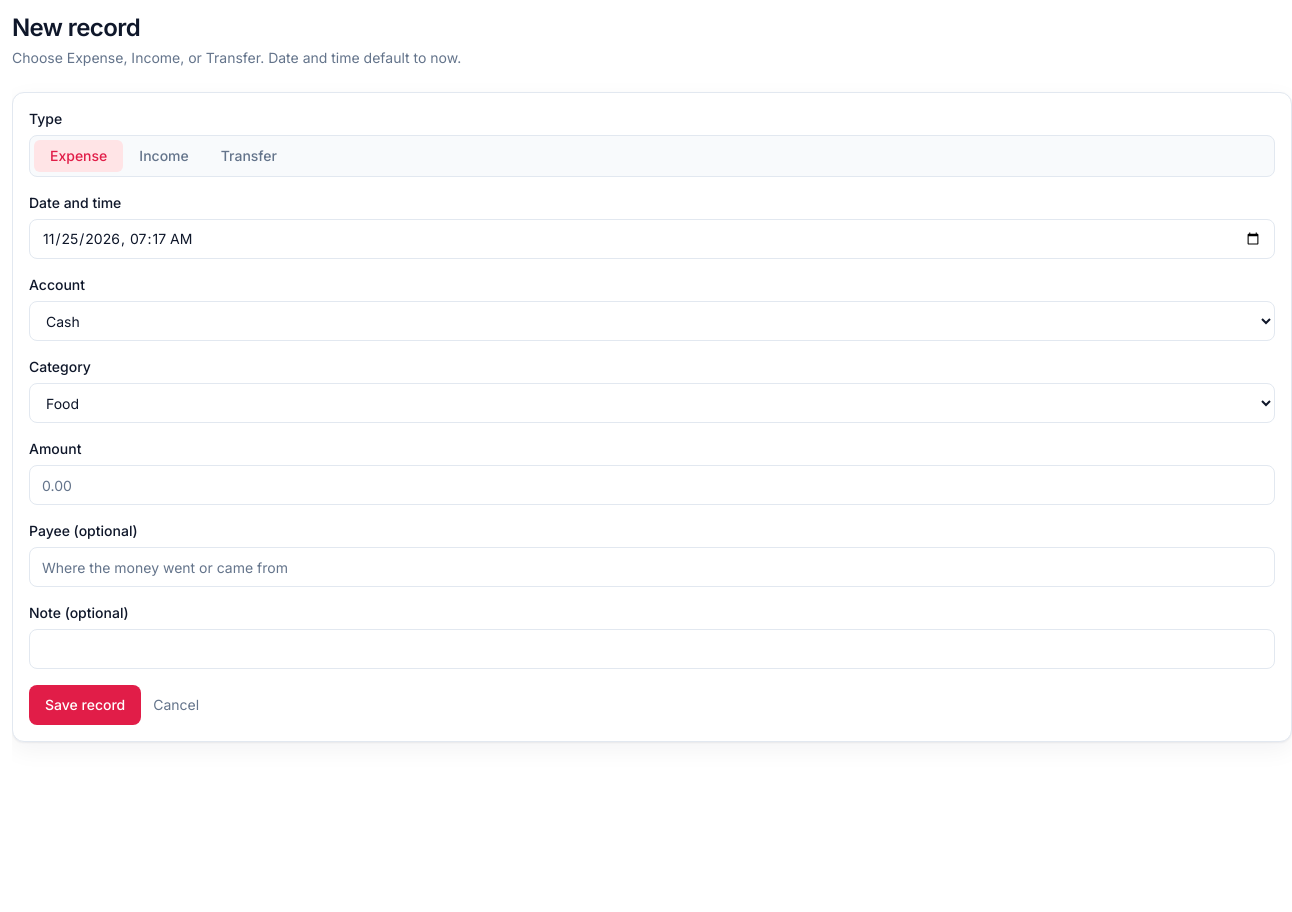
Test: TransactionFormPage with three types (D-019) › blocks saving without an amount
Click the button "Save record".
click(85, 705)  # box left=29, top=685, right=141, bottom=725
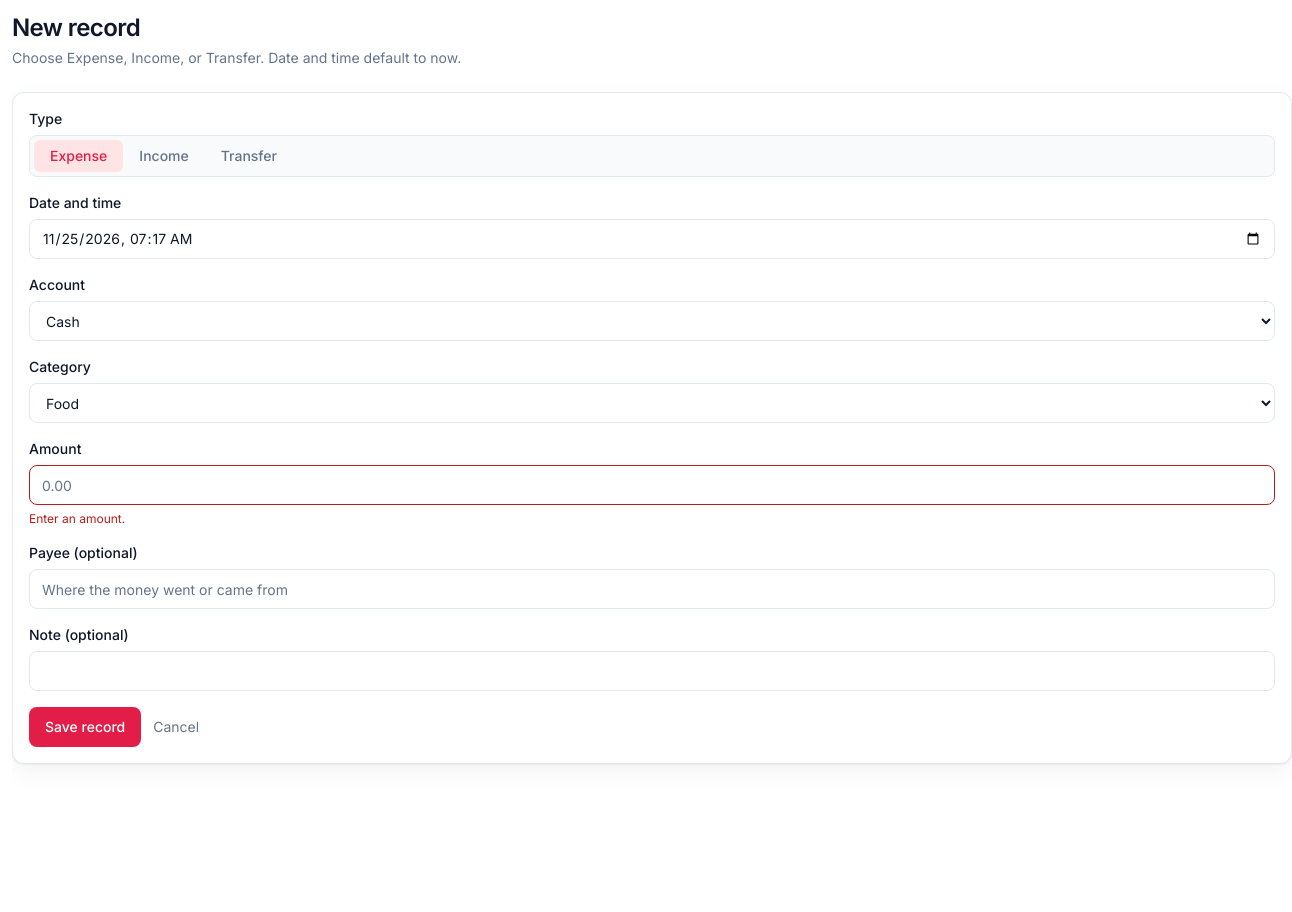
Check: the text "Enter an amount." is shown, box left=29, top=511, right=125, bottom=526
